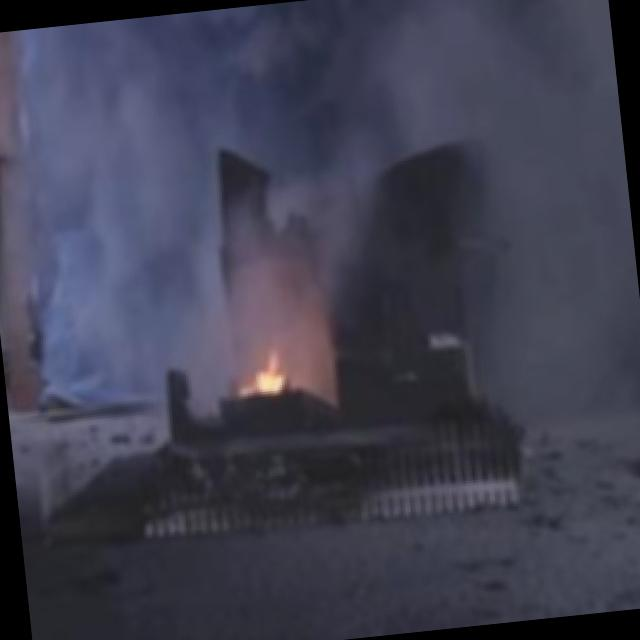fire: (218, 335, 315, 412)
smoke: (38, 0, 587, 340)
